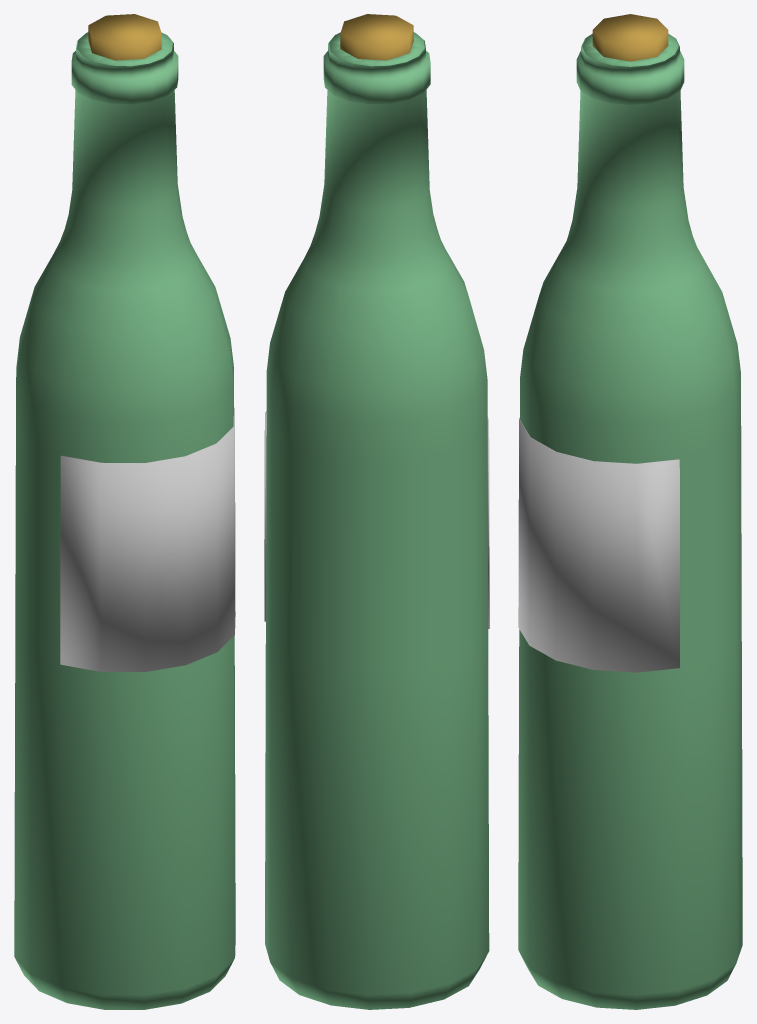
Rendered from beer bottle 1.fbx.
3 renders of one model, left to right at view 1: azimuth 30°, elevation 25°; view 2: azimuth 150°, elevation 25°; view 3: azimuth 270°, elevation 25°, orthographic.
Parts seen in each view (by area): view 1: Long.Bottle, Long.Bottle.001, Long.Bottle.Cap; view 2: Long.Bottle, Long.Bottle.Cap, Long.Bottle.001; view 3: Long.Bottle, Long.Bottle.001, Long.Bottle.Cap.
Part boxes in pixels (box(x1,y1,x2,y2)): Long.Bottle: box(14, 32, 235, 1009); Long.Bottle.001: box(60, 407, 235, 672); Long.Bottle.Cap: box(88, 14, 161, 60); Long.Bottle: box(265, 32, 489, 1009); Long.Bottle.Cap: box(340, 14, 413, 60); Long.Bottle.001: box(264, 411, 489, 628); Long.Bottle: box(518, 34, 742, 1009); Long.Bottle.001: box(518, 417, 679, 672); Long.Bottle.Cap: box(592, 14, 668, 61).
Bounding box in the file's own units: 118 × 545 × 118.
